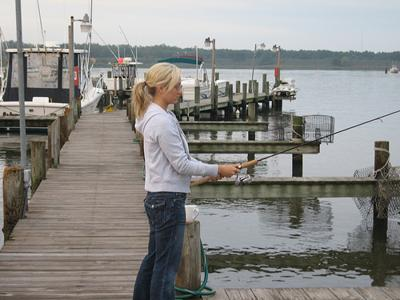person: (131, 62, 242, 300)
